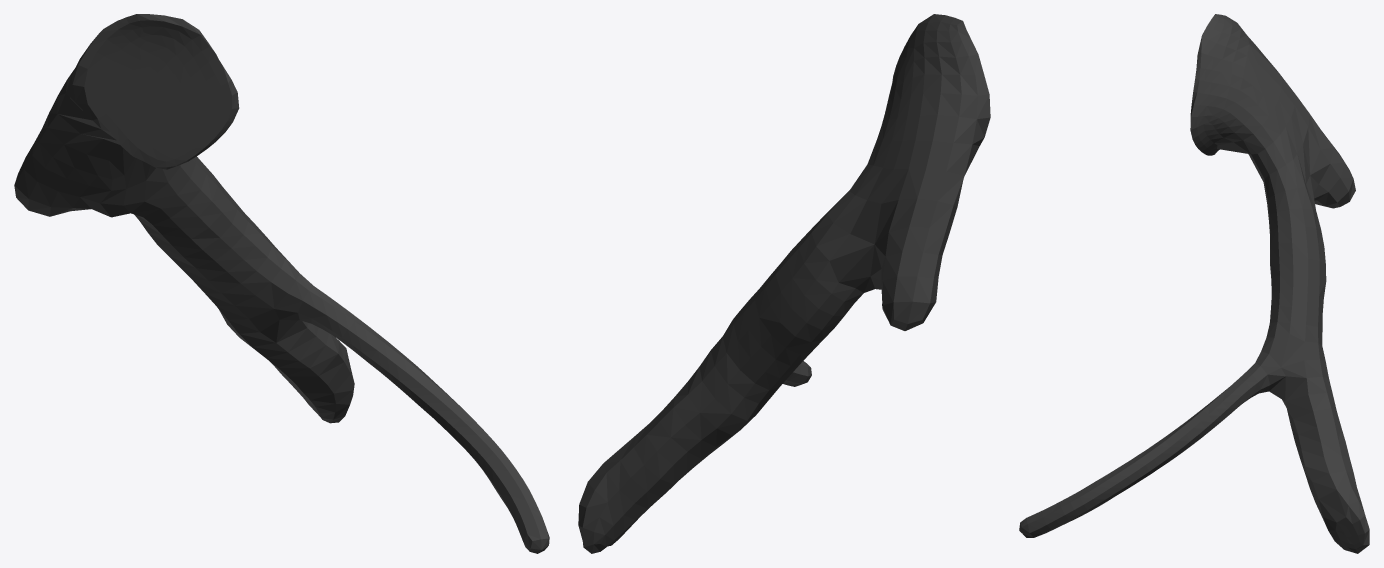
The model's file is L_sided_CORONARY_ARTERY.glb.
3 views of the same model, side by side, from view 1: azimuth 30°, elevation 25°; view 2: azimuth 150°, elevation 25°; view 3: azimuth 270°, elevation 25° (orthographic). The views are drawn at different scales.
Visible parts, largest first — view 1: L_sided_CORONARY_ARTERY; view 2: L_sided_CORONARY_ARTERY; view 3: L_sided_CORONARY_ARTERY.
Boxes of the visible parts, bbox=[...] form: L_sided_CORONARY_ARTERY: bbox=[14, 14, 549, 553]; L_sided_CORONARY_ARTERY: bbox=[578, 14, 990, 553]; L_sided_CORONARY_ARTERY: bbox=[1019, 14, 1369, 553].
Size of the model in its own units: 1.72 by 2.57 by 1.9.
Materials: 1 (1 with a texture image).
